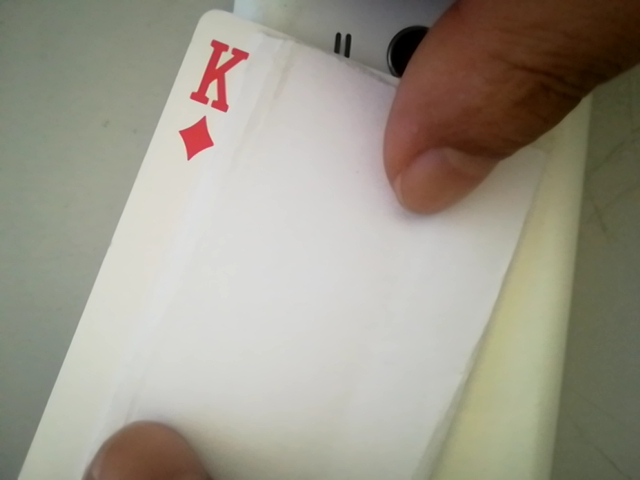fk k: (173, 31, 253, 168)
